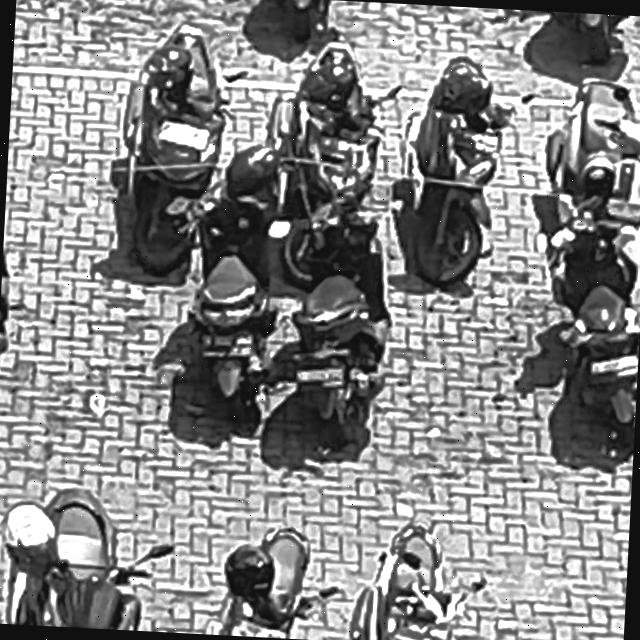motor: (266, 166, 408, 462), (153, 147, 296, 436), (253, 32, 409, 286), (504, 187, 640, 463), (96, 18, 238, 279), (390, 38, 528, 302), (0, 471, 174, 632), (529, 65, 640, 307), (192, 497, 334, 640), (340, 502, 481, 640), (0, 116, 44, 412)
